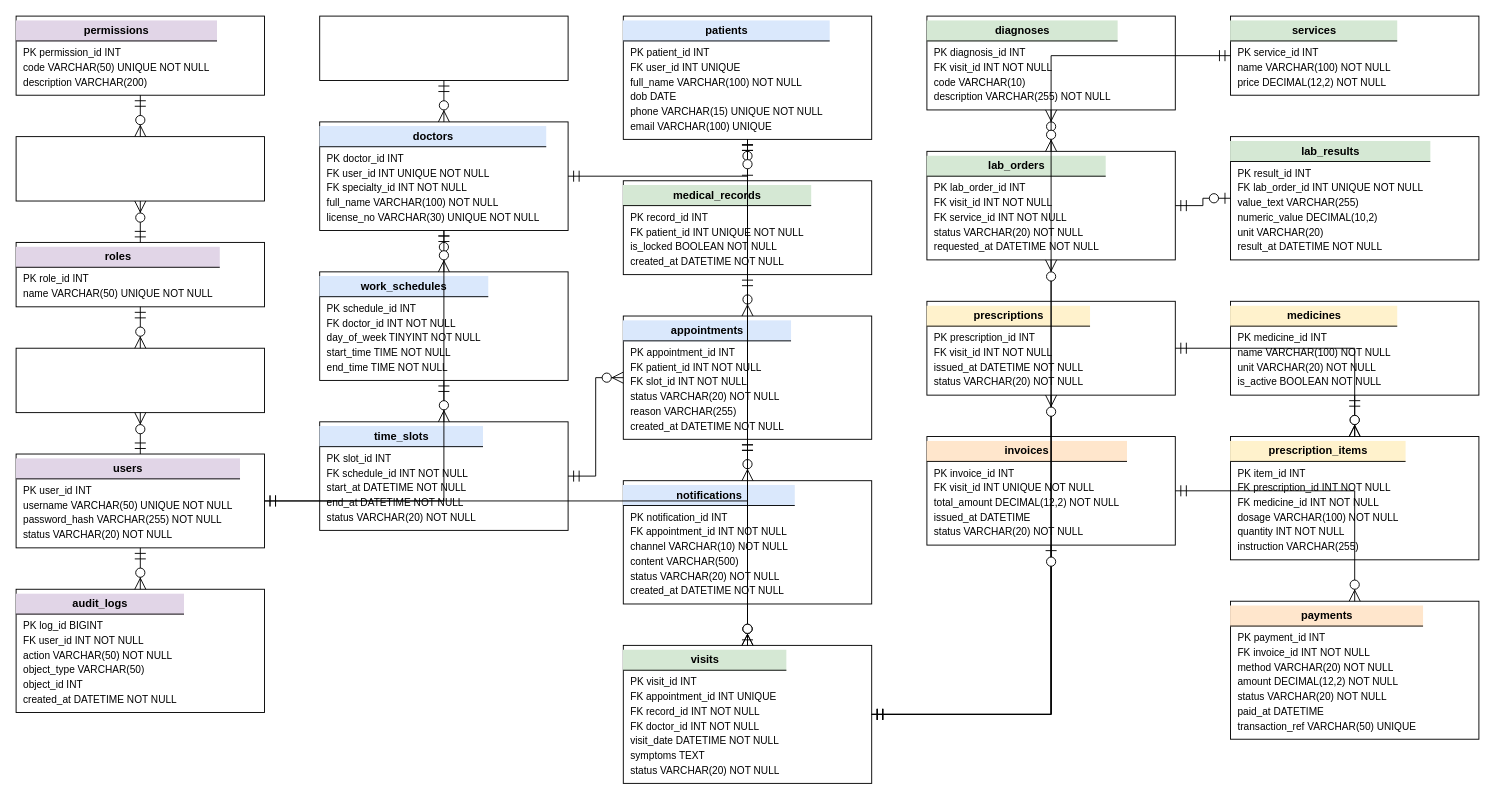
Some shapes in this 1495 by 804 pixel diagram are drawn without their labels. Here are the shapes that lost their labels. From the top down, the box of each, then its label:
(319, 15, 568, 80): specialties PK specialty_id INT name VARCHAR(100) UNIQUE NOT NULL
(15, 136, 264, 201): role_permissions PK, FK role_id INT PK, FK permission_id INT
(15, 347, 264, 413): user_roles PK, FK user_id INT PK, FK role_id INT
